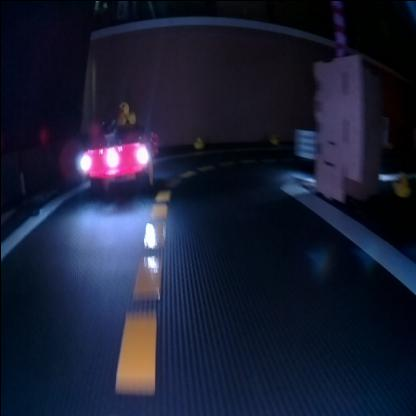Duckie: (116, 100, 134, 124), (391, 173, 409, 197), (193, 136, 202, 146), (271, 134, 276, 142)
Duckiebot: (80, 132, 154, 190)
